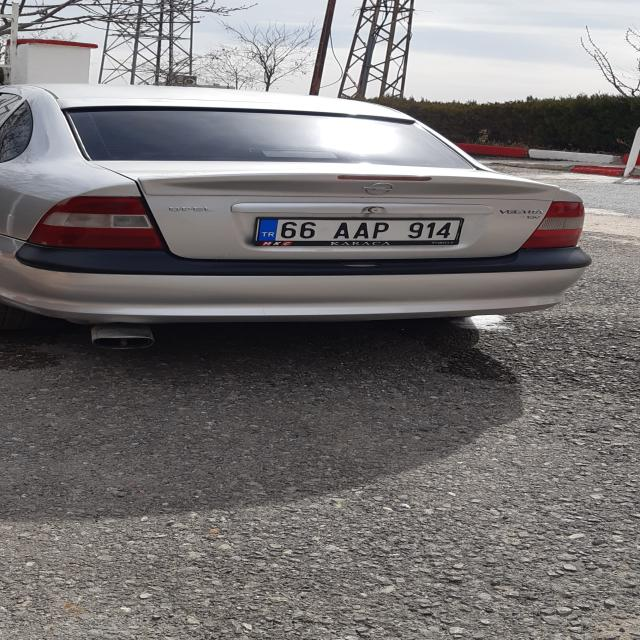plate: (255, 218, 462, 242)
